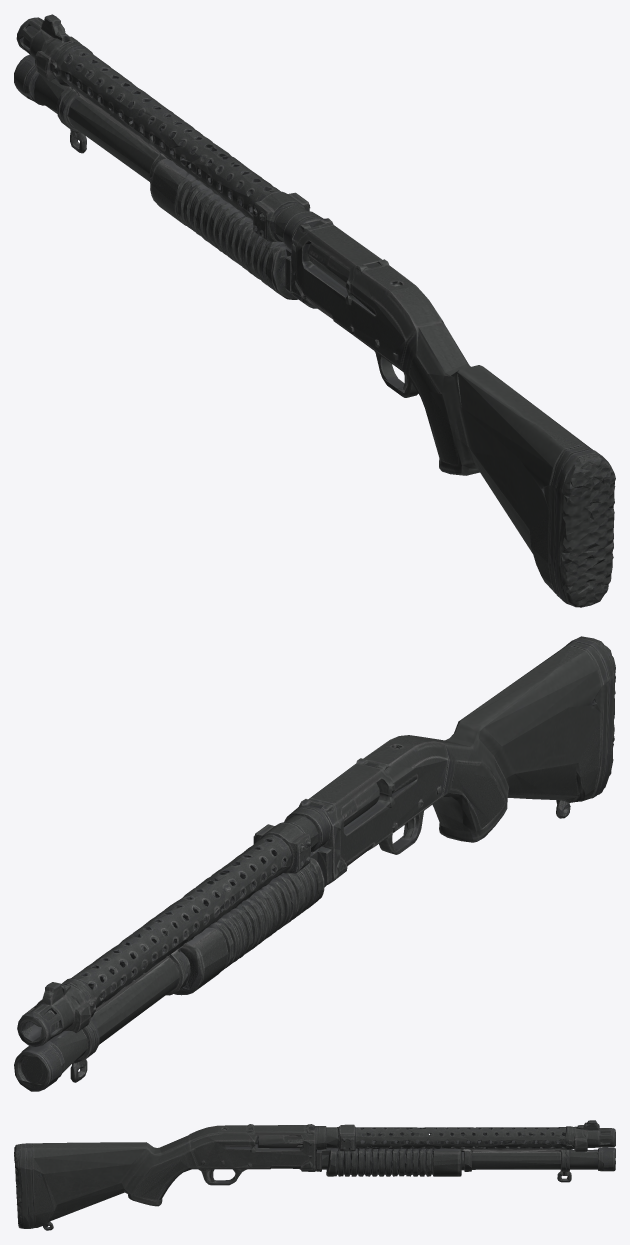
Rendered from shotgun.glb.
3 views of the same model, one above another, from view 1: azimuth 30°, elevation 25°; view 2: azimuth 150°, elevation 25°; view 3: azimuth 270°, elevation 25° (orthographic). The views are drawn at different scales.
Visible parts, largest first — view 1: output_unwrapped; view 2: output_unwrapped; view 3: output_unwrapped.
Part boxes in pixels (x1,y1,x2,y2): output_unwrapped: (14, 14, 615, 607); output_unwrapped: (14, 636, 615, 1091); output_unwrapped: (14, 1120, 615, 1230).
Bounding box in the file's own units: 0.0573 × 0.2079 × 1.03.
1 material, 1 textured.
